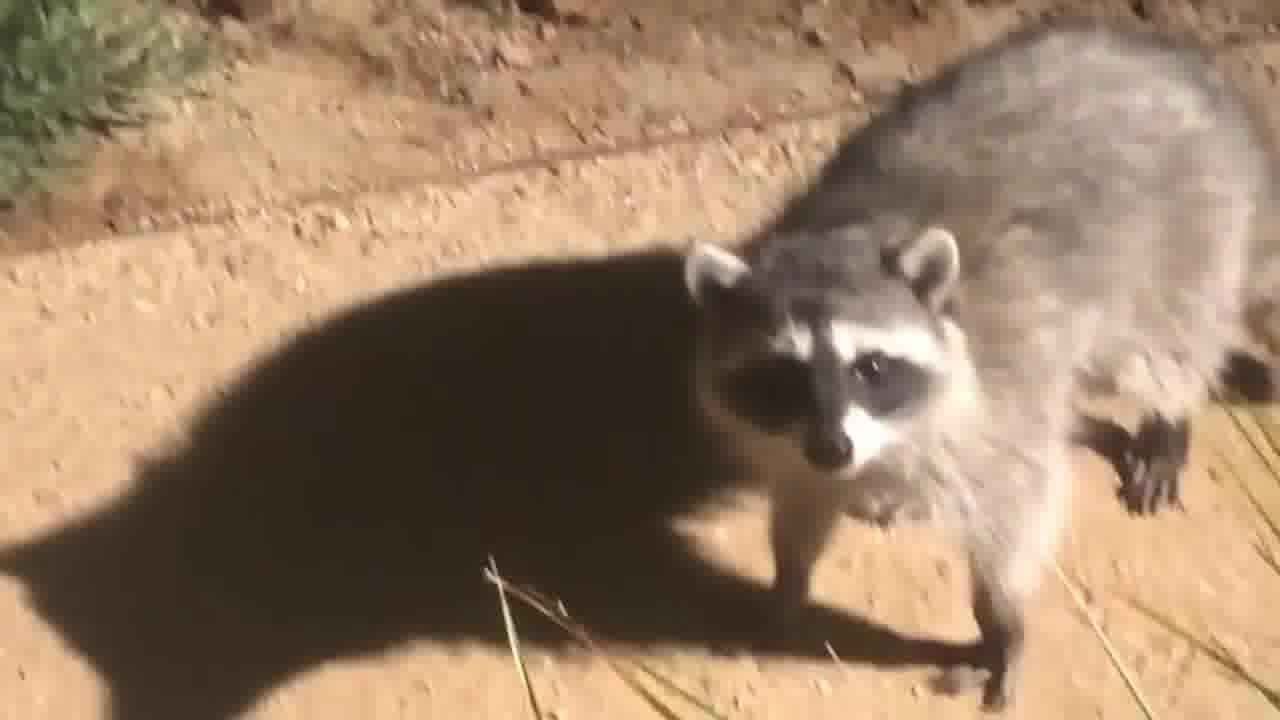raccoon: (675, 0, 1280, 720)
